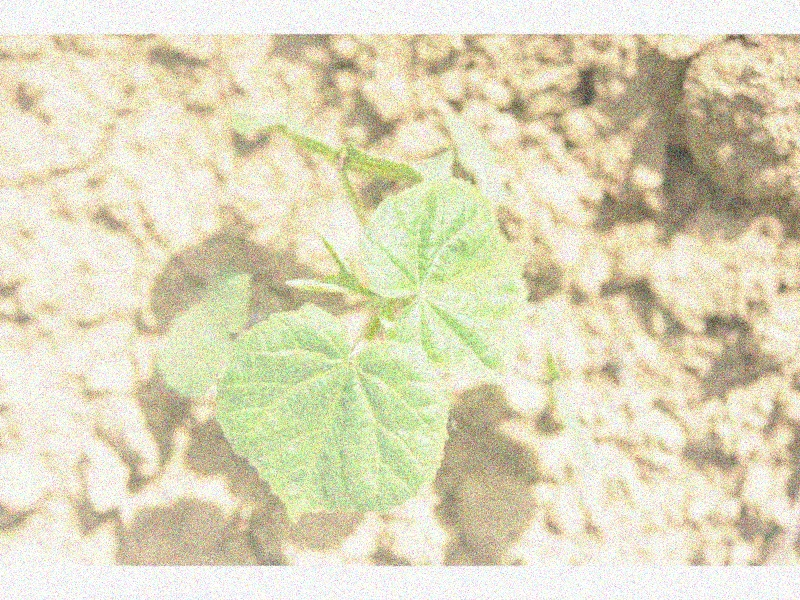velvet: (157, 108, 526, 512)
